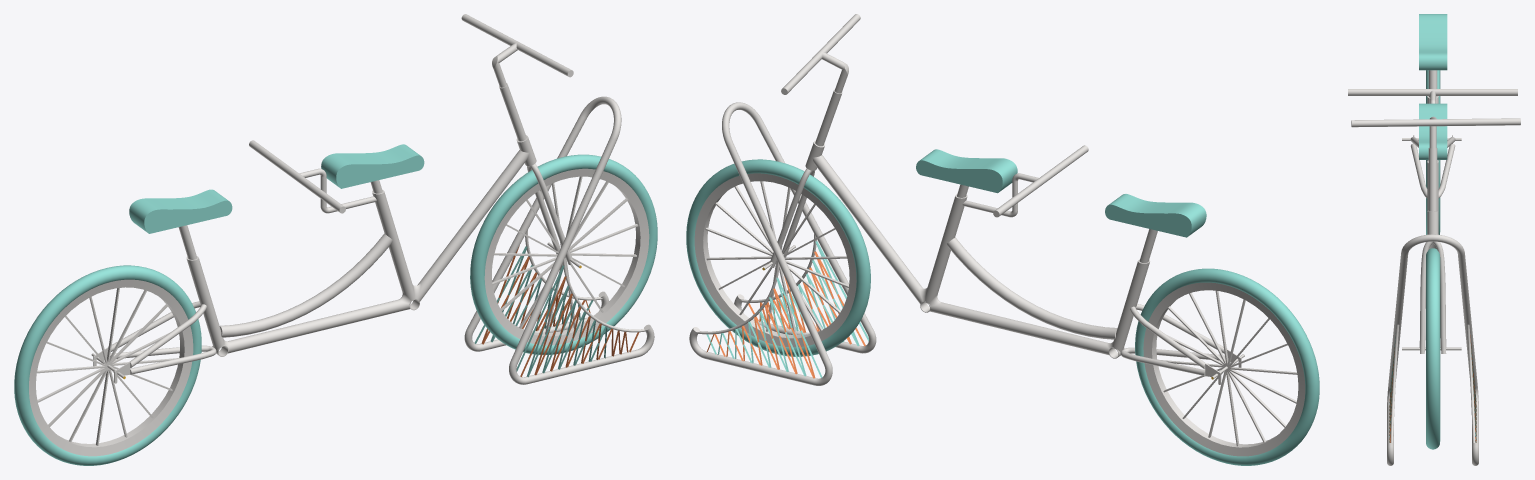
File: rack_tandem.glb
3 views of the same model, side by side, from view 1: azimuth 30°, elevation 25°; view 2: azimuth 150°, elevation 25°; view 3: azimuth 270°, elevation 25° (orthographic). The views are drawn at different scales.
Visible parts, largest first — view 1: rueda (×6), Tandem, porta bicicleta 2 (×5), sillin (×2), tenedor, manubriotandem, manubrio; view 2: rueda (×6), Tandem, porta bicicleta 2 (×5), sillin (×2), tenedor, manubriotandem, manubrio; view 3: porta bicicleta 2 (×2), rueda (×2), sillin (×3), tenedor, manubrio, Tandem, manubriotandem.
Boxes of the visible parts, box(x1,y1,x2,y2) form: rueda (×6): box(14, 154, 657, 465); Tandem: box(93, 135, 536, 383); porta bicicleta 2 (×5): box(464, 96, 654, 384); sillin (×2): box(129, 144, 424, 233); tenedor: box(499, 83, 572, 264); manubriotandem: box(249, 140, 376, 213); manubrio: box(461, 14, 573, 87); rueda (×6): box(686, 159, 1319, 465); Tandem: box(805, 140, 1241, 384); porta bicicleta 2 (×5): box(689, 102, 876, 385); sillin (×2): box(916, 149, 1206, 237); tenedor: box(770, 89, 842, 267); manubriotandem: box(962, 145, 1088, 217); manubrio: box(781, 14, 860, 94); porta bicicleta 2 (×2): box(1387, 234, 1478, 465); rueda (×2): box(1426, 70, 1440, 449); sillin (×3): box(1419, 14, 1447, 159); tenedor: box(1419, 147, 1446, 353); manubrio: box(1351, 116, 1520, 148); Tandem: box(1410, 96, 1455, 248); manubriotandem: box(1348, 89, 1517, 103).
Bounding box in the file's own units: 246 × 118 × 61.04.
